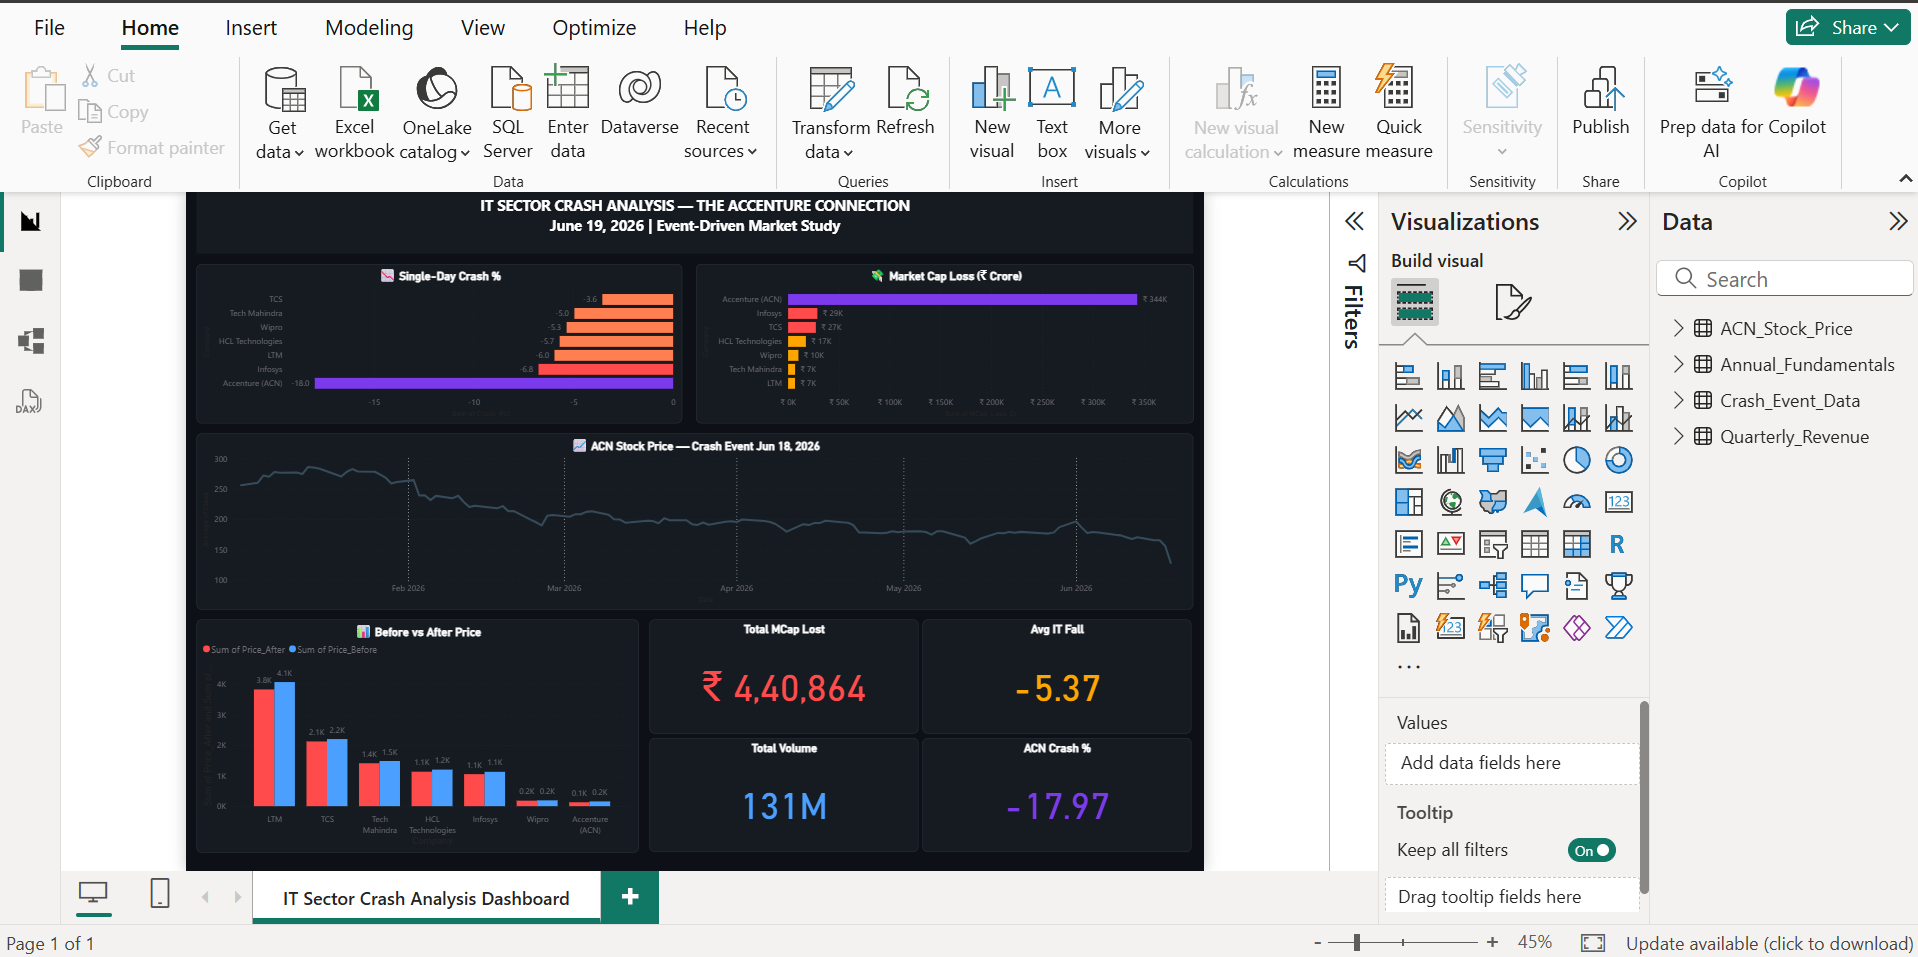

The dashboard page shown, as its layout file describes it:
{"tool":"powerbi","page":{"name":"IT Sector Crash Analysis Dashboard","canvas":[1500,1000],"ordinal":0},"visuals":[{"type":"clusteredBarChart","title":"📉 Single-Day Crash %","fields":{"Category":["Crash_Event_Data.Company"],"Y":["Sum(Crash_Event_Data.Crash_Pct)"]},"box":[15.5,106.3,715.3,234.7],"z":0},{"type":"clusteredBarChart","title":"💸 Market Cap Loss (₹ Crore)","fields":{"Category":["Crash_Event_Data.Company"],"Y":["Sum(Crash_Event_Data.MCap_Loss_Cr)"]},"box":[750.7,106.3,733,234.7],"z":1000},{"type":"lineChart","title":"📈 ACN Stock Price — Crash Event Jun 18, 2026","fields":{"Y":["Avg(ACN_Stock_Price.Close)"],"Category":["ACN_Stock_Price.Date"]},"box":[15.5,356.5,1468.3,259],"z":2000},{"type":"clusteredColumnChart","title":"📊 Before vs After Price","fields":{"Category":["Crash_Event_Data.Company"],"Y":["Sum(Crash_Event_Data.Price_After)","Sum(Crash_Event_Data.Price_Before)"]},"box":[15.5,628.9,651.1,343.3],"z":3000},{"type":"card","title":"Total MCap Lost","fields":{"Values":["Sum(Crash_Event_Data.MCap_Loss_Cr)"]},"box":[682.1,628.9,396,168.3],"z":4000},{"type":"card","title":"ACN Crash %","fields":{"Values":["ACN_Stock_Price.ACN_Crash"]},"box":[1085.1,803.9,396,168.3],"z":5000},{"type":"card","title":"Total Volume","fields":{"Values":["Sum(Crash_Event_Data.Volume)"]},"box":[682.1,803.9,396,168.3],"z":6000},{"type":"card","title":"Avg IT Fall","fields":{"Values":["ACN_Stock_Price.Avg_IT_Fall"]},"box":[1085.1,628.9,396,168.3],"z":7000},{"type":"textbox","box":[15.5,0,1468.3,90.8],"z":8000}]}

Visuals, with their boxes on the page's 1500x1000 design canvas (x1, y1, x2, y2). These are canvas units, not pixel positions in the 1918x957 screenshot, which may show the page scaled, cropped or inside an application window:
"📉 Single-Day Crash %" clusteredBarChart: (16, 106, 731, 341)
"💸 Market Cap Loss (₹ Crore)" clusteredBarChart: (751, 106, 1484, 341)
"📈 ACN Stock Price — Crash Event Jun 18, 2026" lineChart: (16, 356, 1484, 616)
"📊 Before vs After Price" clusteredColumnChart: (16, 629, 667, 972)
"Total MCap Lost" card: (682, 629, 1078, 797)
"ACN Crash %" card: (1085, 804, 1481, 972)
"Total Volume" card: (682, 804, 1078, 972)
"Avg IT Fall" card: (1085, 629, 1481, 797)
textbox: (16, 0, 1484, 91)
